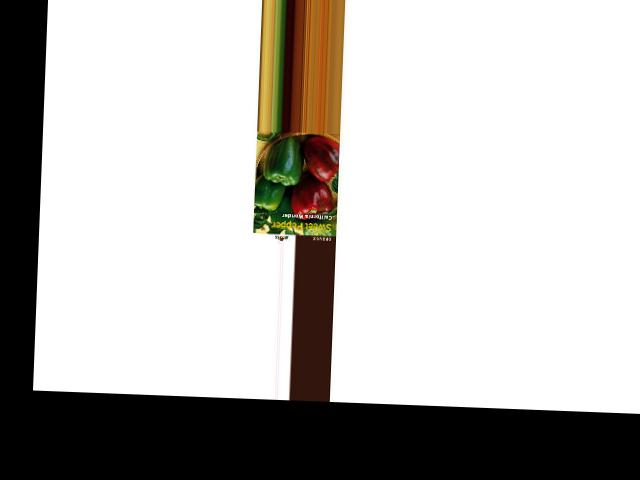bell_pepper: (252, 168, 282, 214)
